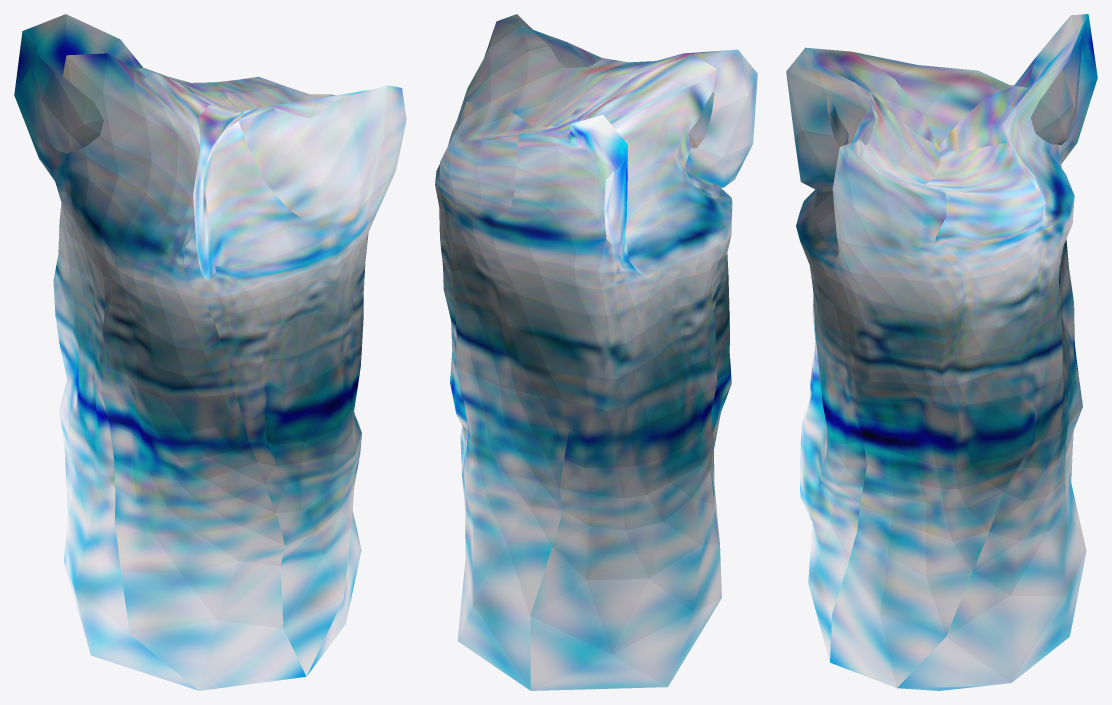
3 renders of one model, left to right at view 1: azimuth 30°, elevation 25°; view 2: azimuth 150°, elevation 25°; view 3: azimuth 270°, elevation 25°, orthographic.
Parts seen in each view (by area): view 1: pMesh1; view 2: pMesh1; view 3: pMesh1.
Boxes of the visible parts, box(x1,y1,x2,y2) form: pMesh1: box(14, 14, 406, 690); pMesh1: box(435, 14, 757, 690); pMesh1: box(786, 14, 1097, 690).
Size of the model in its own units: 2 by 4.64 by 2.09.
Materials: 1 (1 with a texture image).
